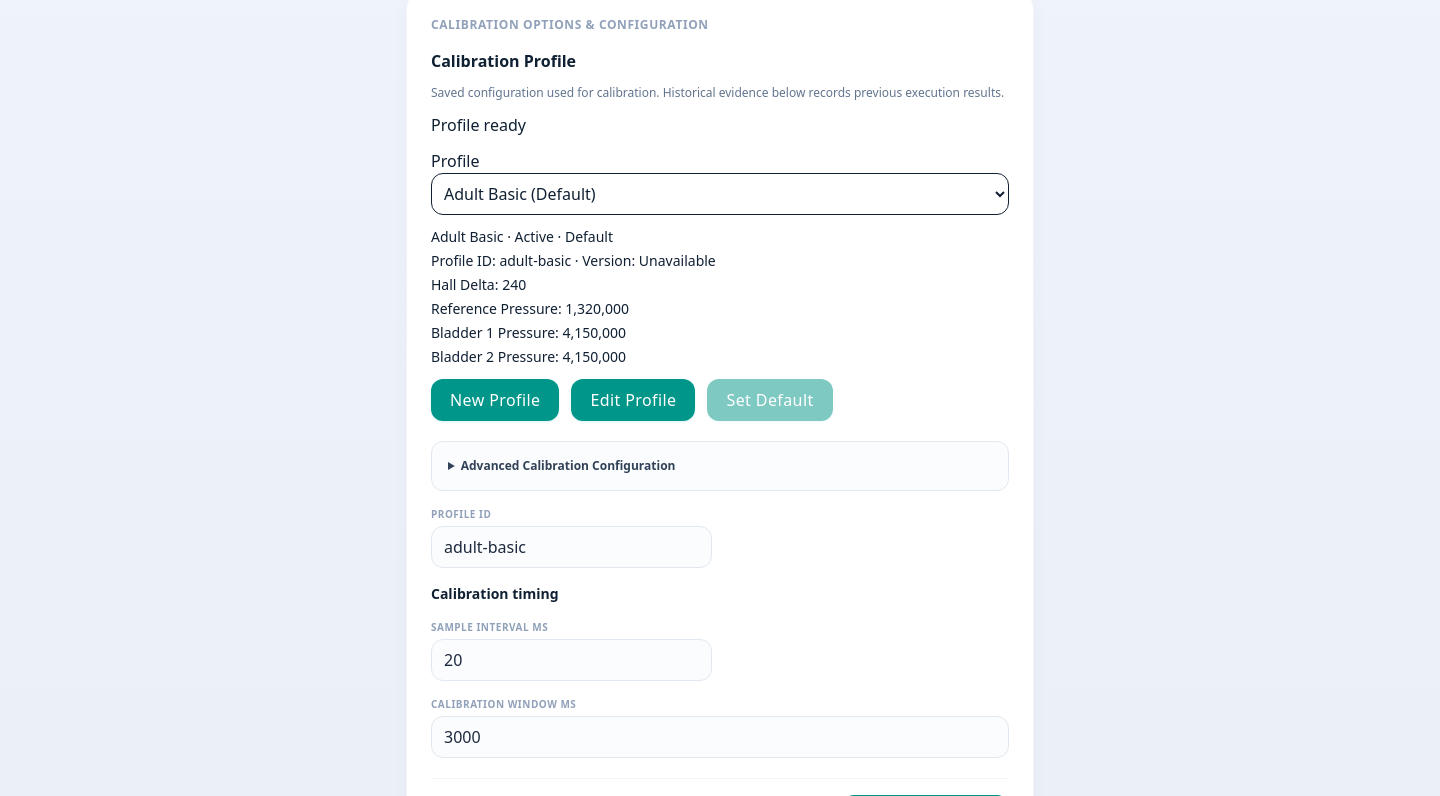
Test: CalibrationWizardPage › shows backend profile errors and keeps unsaved edits out of calibration
(page scrolled)
expect the text "Profile ready" is shown: met, box top-left (431, 114), bottom-right (526, 136)
What coordinates should you click on to do the following:
click the button "Edit Profile"
I would click on:
 (633, 400)
Its box is top-left (571, 379), bottom-right (695, 421).
(page scrolled)
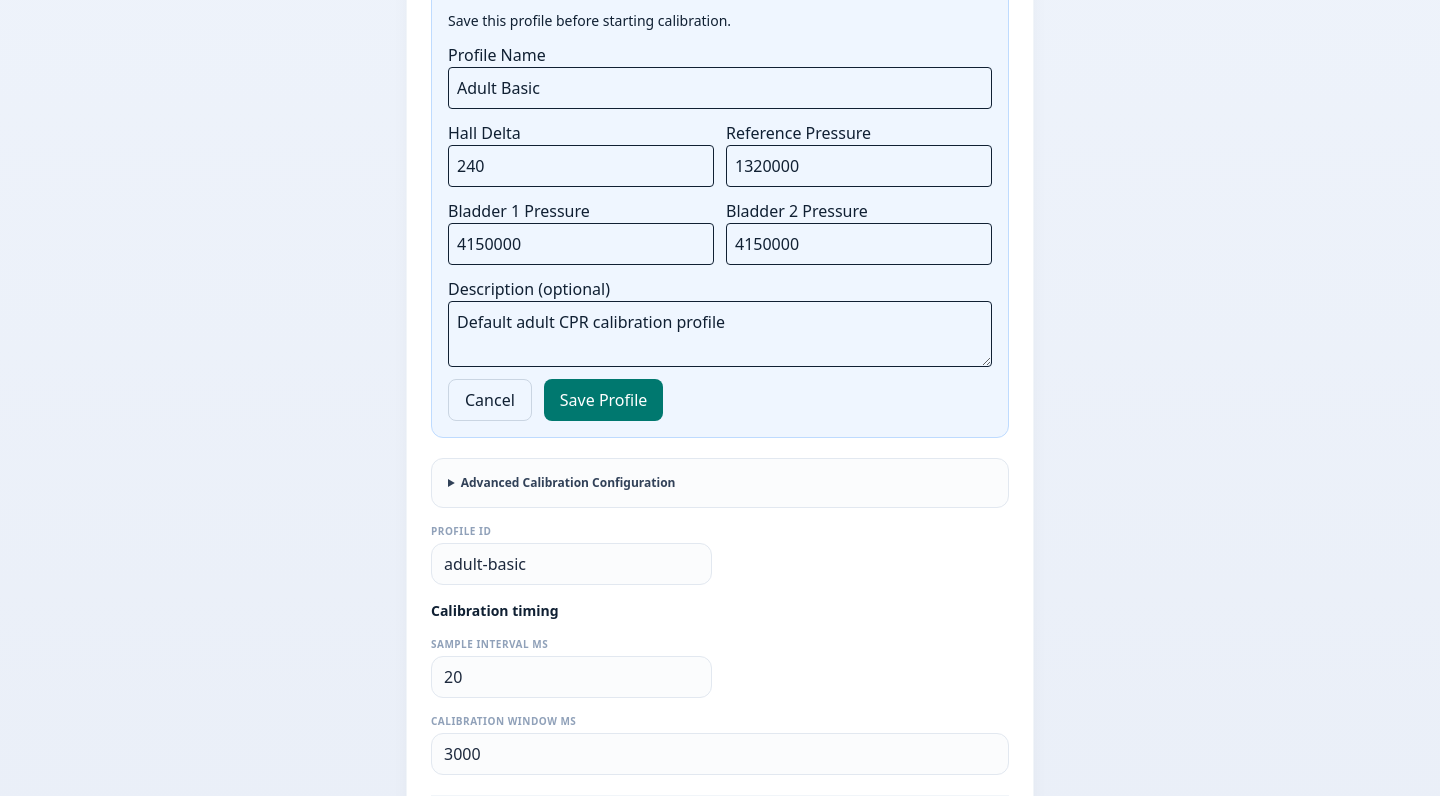
What coordinates should you click on to do the following:
click the button "Save Profile"
I would click on:
 (604, 400)
Its box is top-left (544, 379), bottom-right (663, 421).
(page scrolled)
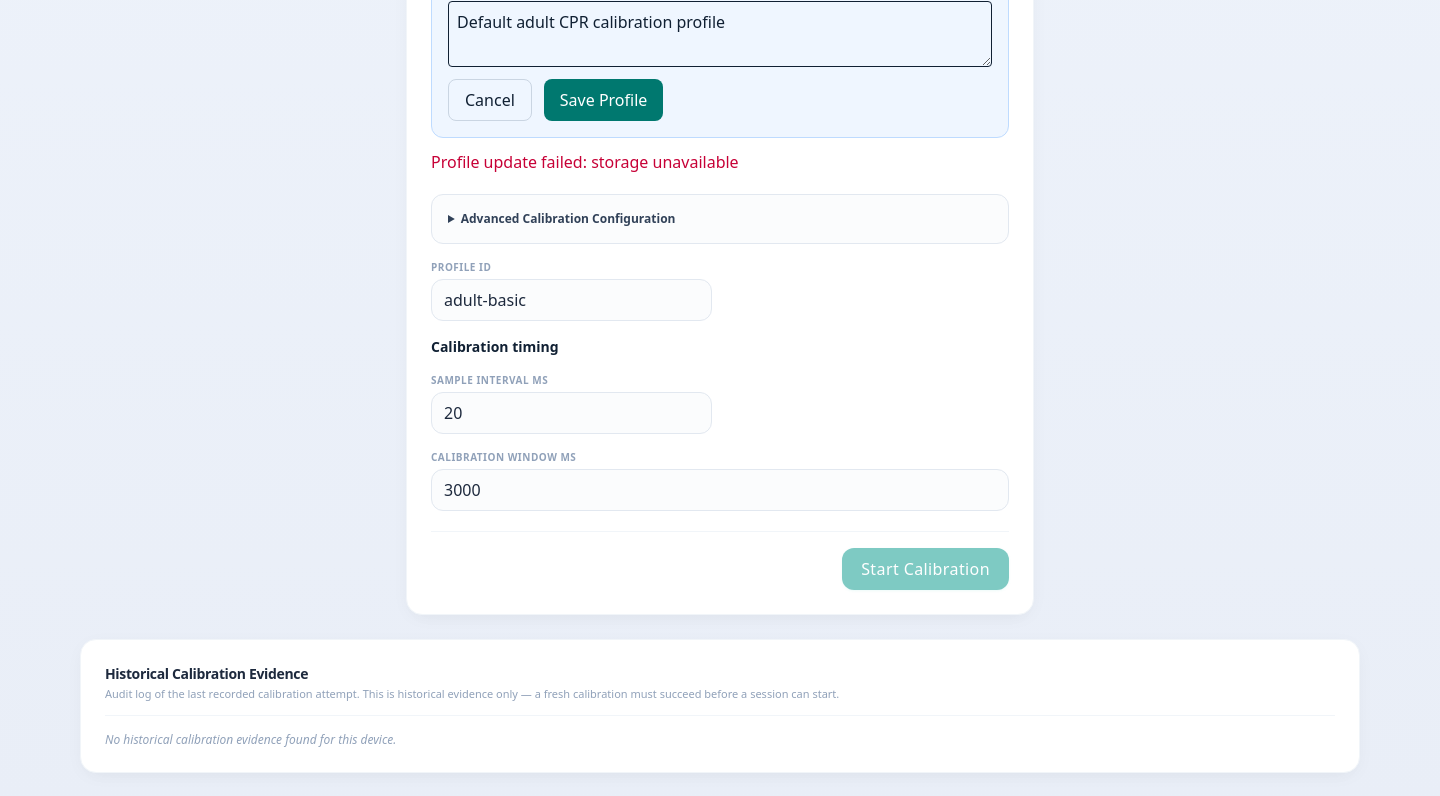
expect the button "Start Calibration" is disabled: met, box top-left (842, 548), bottom-right (1009, 590)
expect the text "Profile update failed: storage unavailable" is shown: met, box top-left (431, 151), bottom-right (739, 173)
